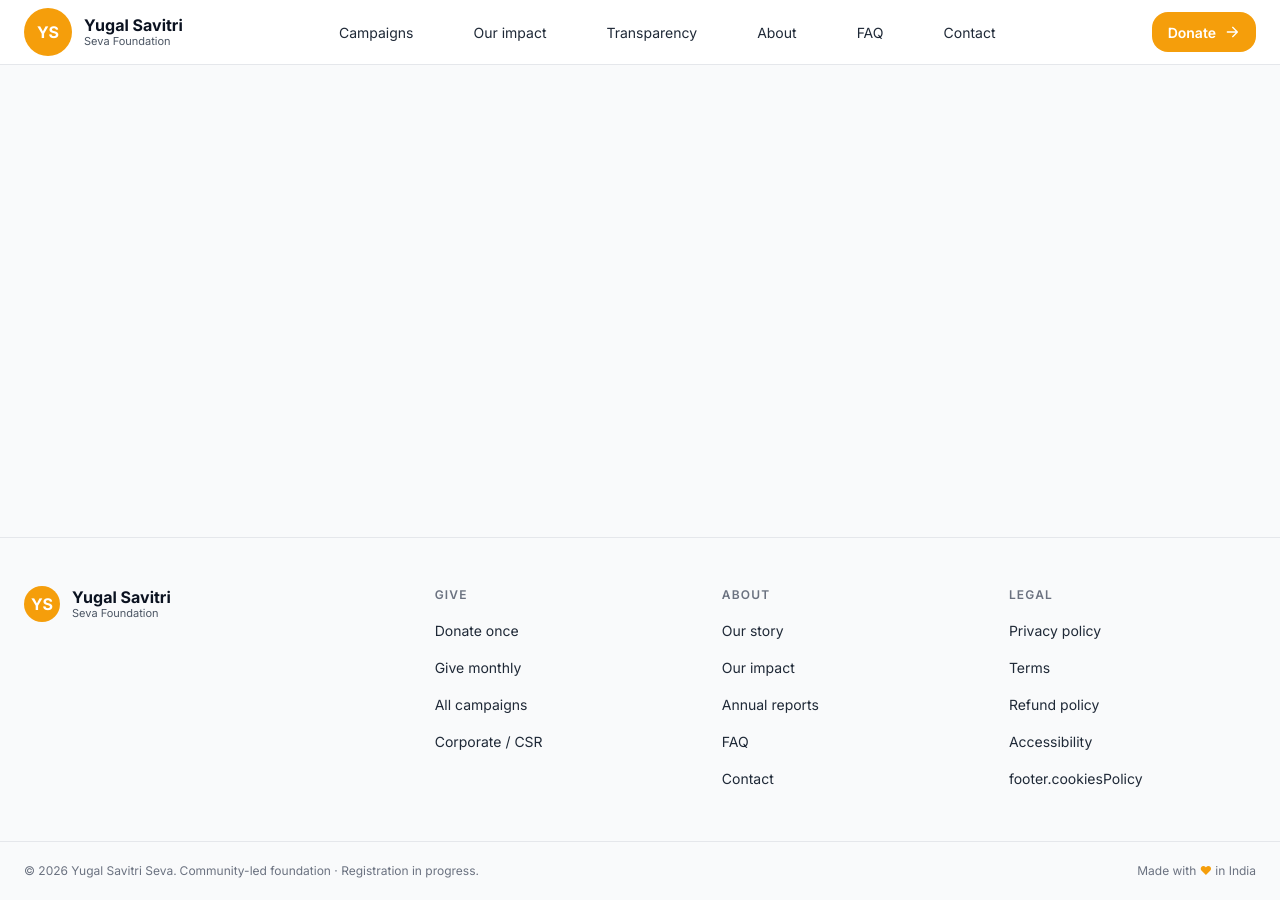
Test: Layout › renders header with site name and opens donate modal
The width and height of the screenshot is (1280, 900).
Expected: the header is shown, x1=0 y1=0 x2=1279 y2=65
Expected: the text "© 2026 Yugal Savitri Seva." is shown, x1=24 y1=862 x2=177 y2=880
Click the link with aria-label "Open donation form" at x=1204, y=32, box x1=1152 y1=12 x2=1256 y2=52
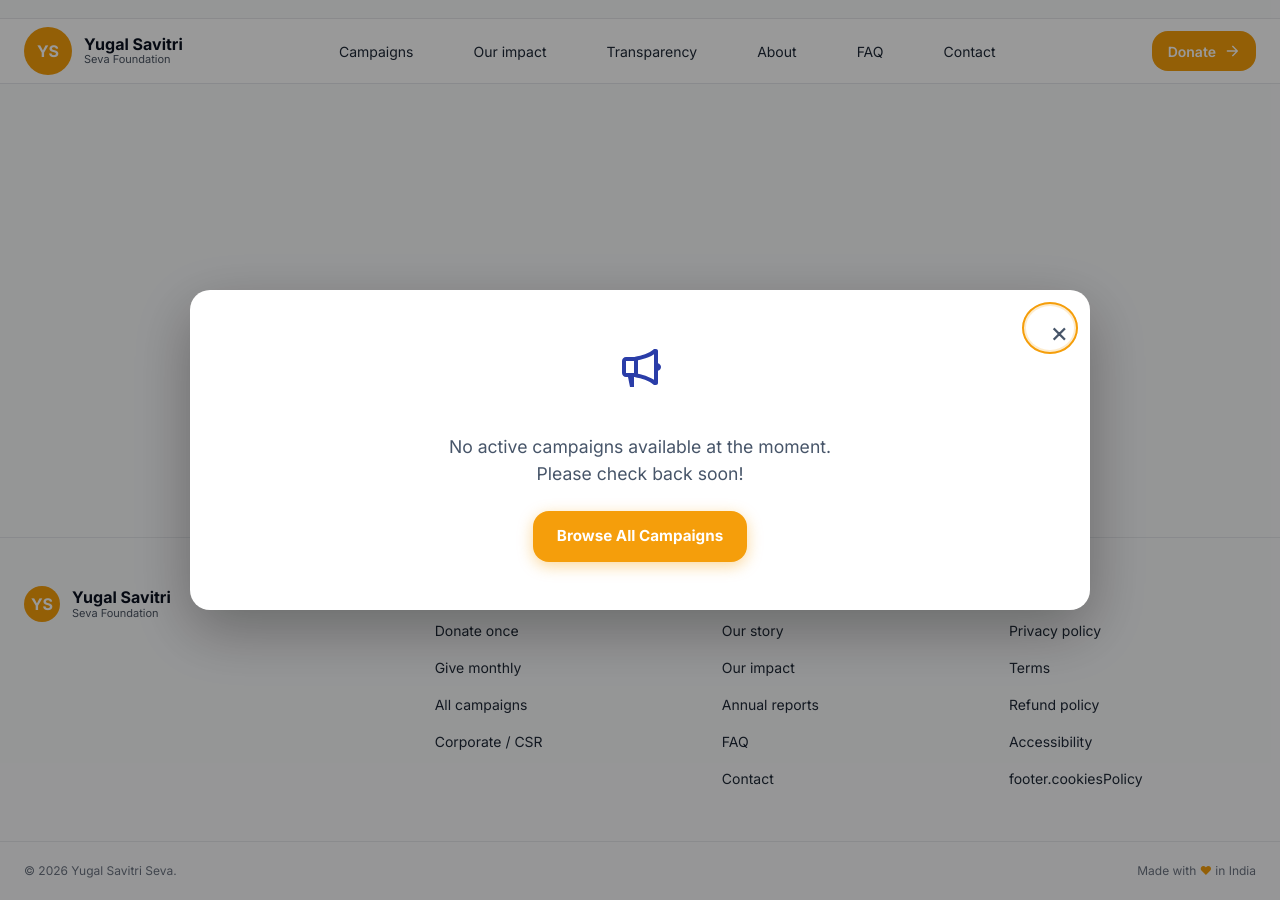
Expected: the text "No active campaigns available" is shown, x1=449 y1=436 x2=831 y2=484
